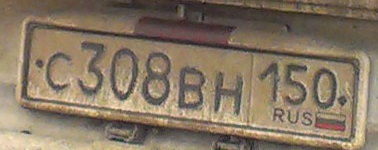character: (142, 50, 172, 108), (110, 47, 140, 102), (79, 38, 106, 97), (212, 70, 243, 115), (177, 65, 205, 112), (283, 60, 310, 108), (45, 49, 74, 92), (313, 65, 338, 110), (257, 60, 282, 104)
